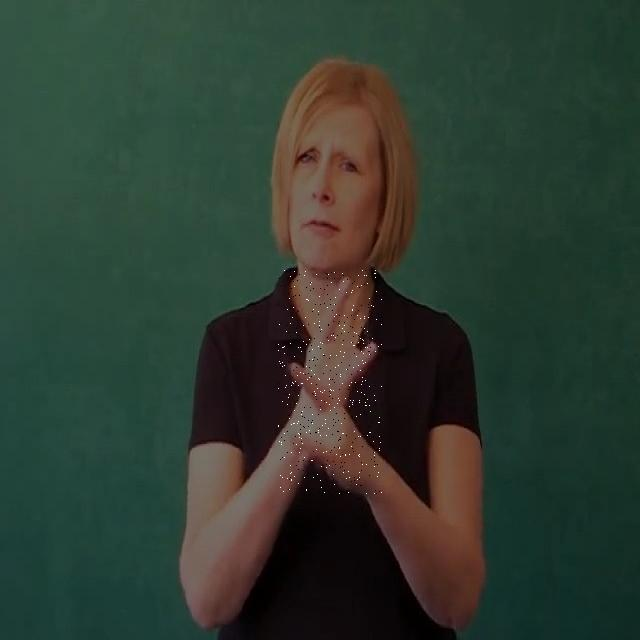alcohol: (278, 270, 382, 494)
